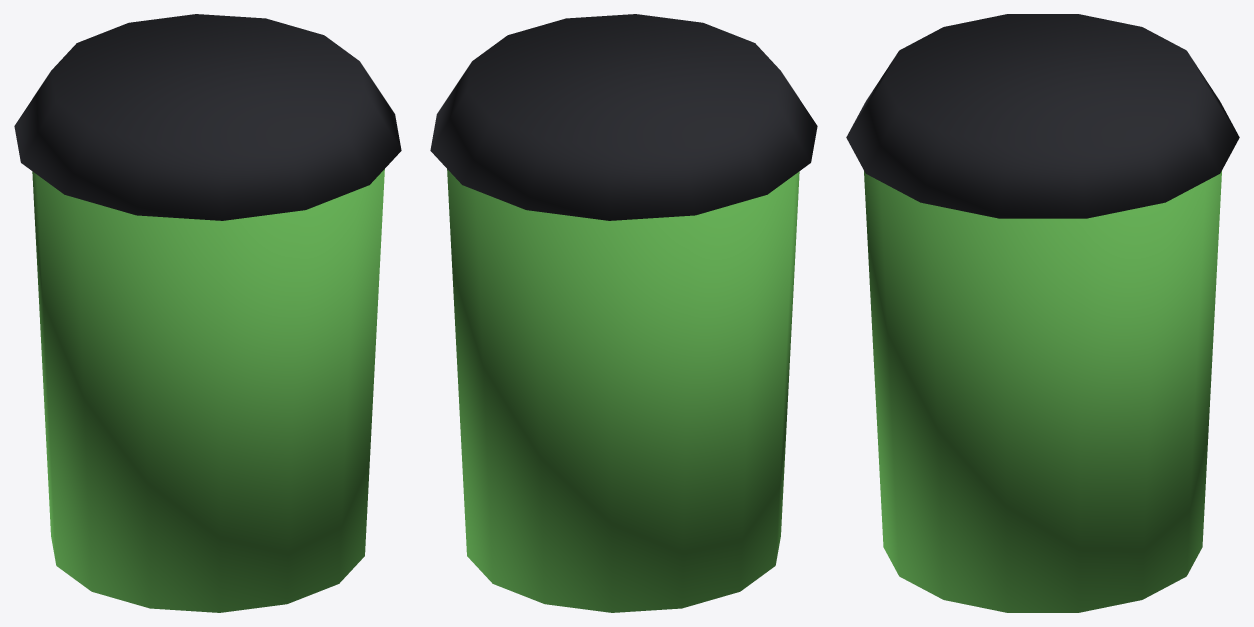
The model's file is trash_bin.gltf.
The picture shows the model from 3 angles, left to right: view 1: azimuth 30°, elevation 25°; view 2: azimuth 150°, elevation 25°; view 3: azimuth 270°, elevation 25°; orthographic projection.
Parts seen in each view (by area): view 1: trash_bin_mesh; view 2: trash_bin_mesh; view 3: trash_bin_mesh.
Part boxes in pixels (x1=…): trash_bin_mesh: x1=14, y1=14, x2=401, y2=612; trash_bin_mesh: x1=430, y1=14, x2=817, y2=612; trash_bin_mesh: x1=846, y1=14, x2=1239, y2=612.
Size of what is drawn, in the model's own units: 0.7214 by 0.97 by 0.74.
